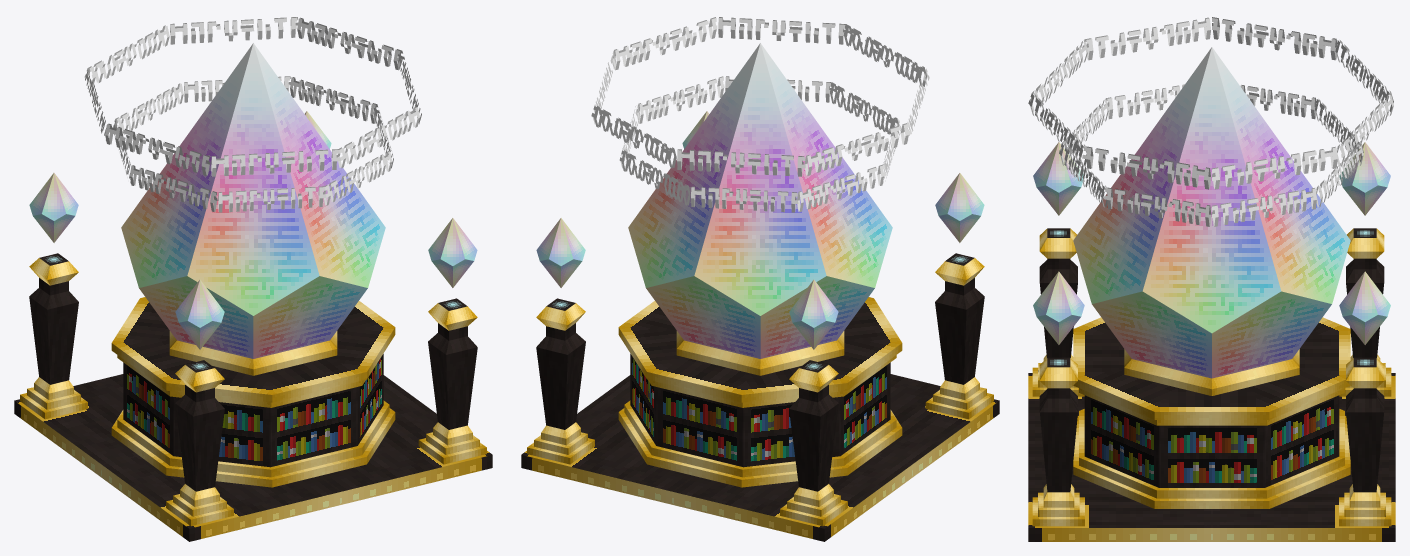
File: crystalmatrixcore.obj
3 renders of one model, left to right at view 1: azimuth 30°, elevation 25°; view 2: azimuth 150°, elevation 25°; view 3: azimuth 270°, elevation 25°, orthographic. The views are drawn at different scales.
Visible parts, largest first — view 1: CornerCrystal005, Pedestal, Base, CrystalRing003, CrystalRing01, CornerPillar03, CornerPillar01, CornerPillar04, MainCrystalBrace, CornerCrystal03, CornerCrystal01, CornerCrystal04; view 2: CornerCrystal005, Pedestal, Base, CrystalRing003, CrystalRing01, CornerPillar04, CornerPillar02, CornerPillar01, MainCrystalBrace, CornerCrystal01, CornerCrystal02, CornerCrystal04; view 3: CornerCrystal005, Pedestal, Base, CrystalRing003, CrystalRing01, CornerPillar03, CornerPillar02, MainCrystalBrace, CornerPillar01, CornerPillar04, CornerCrystal02, CornerCrystal03 (+2 smaller).
Part boxes in pixels (x1=…): CornerCrystal005: x1=121, y1=43, x2=385, y2=358; Pedestal: x1=111, y1=297, x2=395, y2=487; Base: x1=14, y1=374, x2=492, y2=541; CrystalRing003: x1=84, y1=17, x2=421, y2=176; CrystalRing01: x1=113, y1=76, x2=393, y2=212; CornerPillar03: x1=418, y1=298, x2=486, y2=464; CornerPillar01: x1=20, y1=253, x2=88, y2=419; CornerPillar04: x1=166, y1=360, x2=233, y2=526; MainCrystalBrace: x1=169, y1=331, x2=337, y2=375; CornerCrystal03: x1=428, y1=218, x2=477, y2=287; CornerCrystal01: x1=29, y1=173, x2=78, y2=242; CornerCrystal04: x1=175, y1=279, x2=224, y2=349; CornerCrystal005: x1=628, y1=43, x2=892, y2=358; Pedestal: x1=618, y1=297, x2=902, y2=487; Base: x1=521, y1=374, x2=999, y2=541; CrystalRing003: x1=591, y1=17, x2=929, y2=176; CrystalRing01: x1=619, y1=76, x2=901, y2=212; CornerPillar04: x1=925, y1=253, x2=993, y2=419; CornerPillar02: x1=527, y1=298, x2=594, y2=464; CornerPillar01: x1=780, y1=360, x2=847, y2=526; MainCrystalBrace: x1=676, y1=331, x2=844, y2=375; CornerCrystal01: x1=789, y1=279, x2=838, y2=349; CornerCrystal02: x1=536, y1=218, x2=585, y2=287; CornerCrystal04: x1=935, y1=173, x2=984, y2=242; CornerCrystal005: x1=1073, y1=47, x2=1350, y2=378; Pedestal: x1=1073, y1=317, x2=1350, y2=508; Base: x1=1028, y1=373, x2=1395, y2=541; CrystalRing003: x1=1028, y1=17, x2=1393, y2=189; CrystalRing01: x1=1059, y1=84, x2=1363, y2=226; CornerPillar03: x1=1032, y1=357, x2=1084, y2=526; CornerPillar02: x1=1339, y1=357, x2=1391, y2=526; MainCrystalBrace: x1=1124, y1=349, x2=1299, y2=395; CornerPillar01: x1=1339, y1=228, x2=1391, y2=396; CornerPillar04: x1=1032, y1=228, x2=1084, y2=396; CornerCrystal02: x1=1339, y1=271, x2=1390, y2=344; CornerCrystal03: x1=1033, y1=271, x2=1084, y2=344.
Size of the model in its own units: 11.81 by 14.81 by 11.81.
